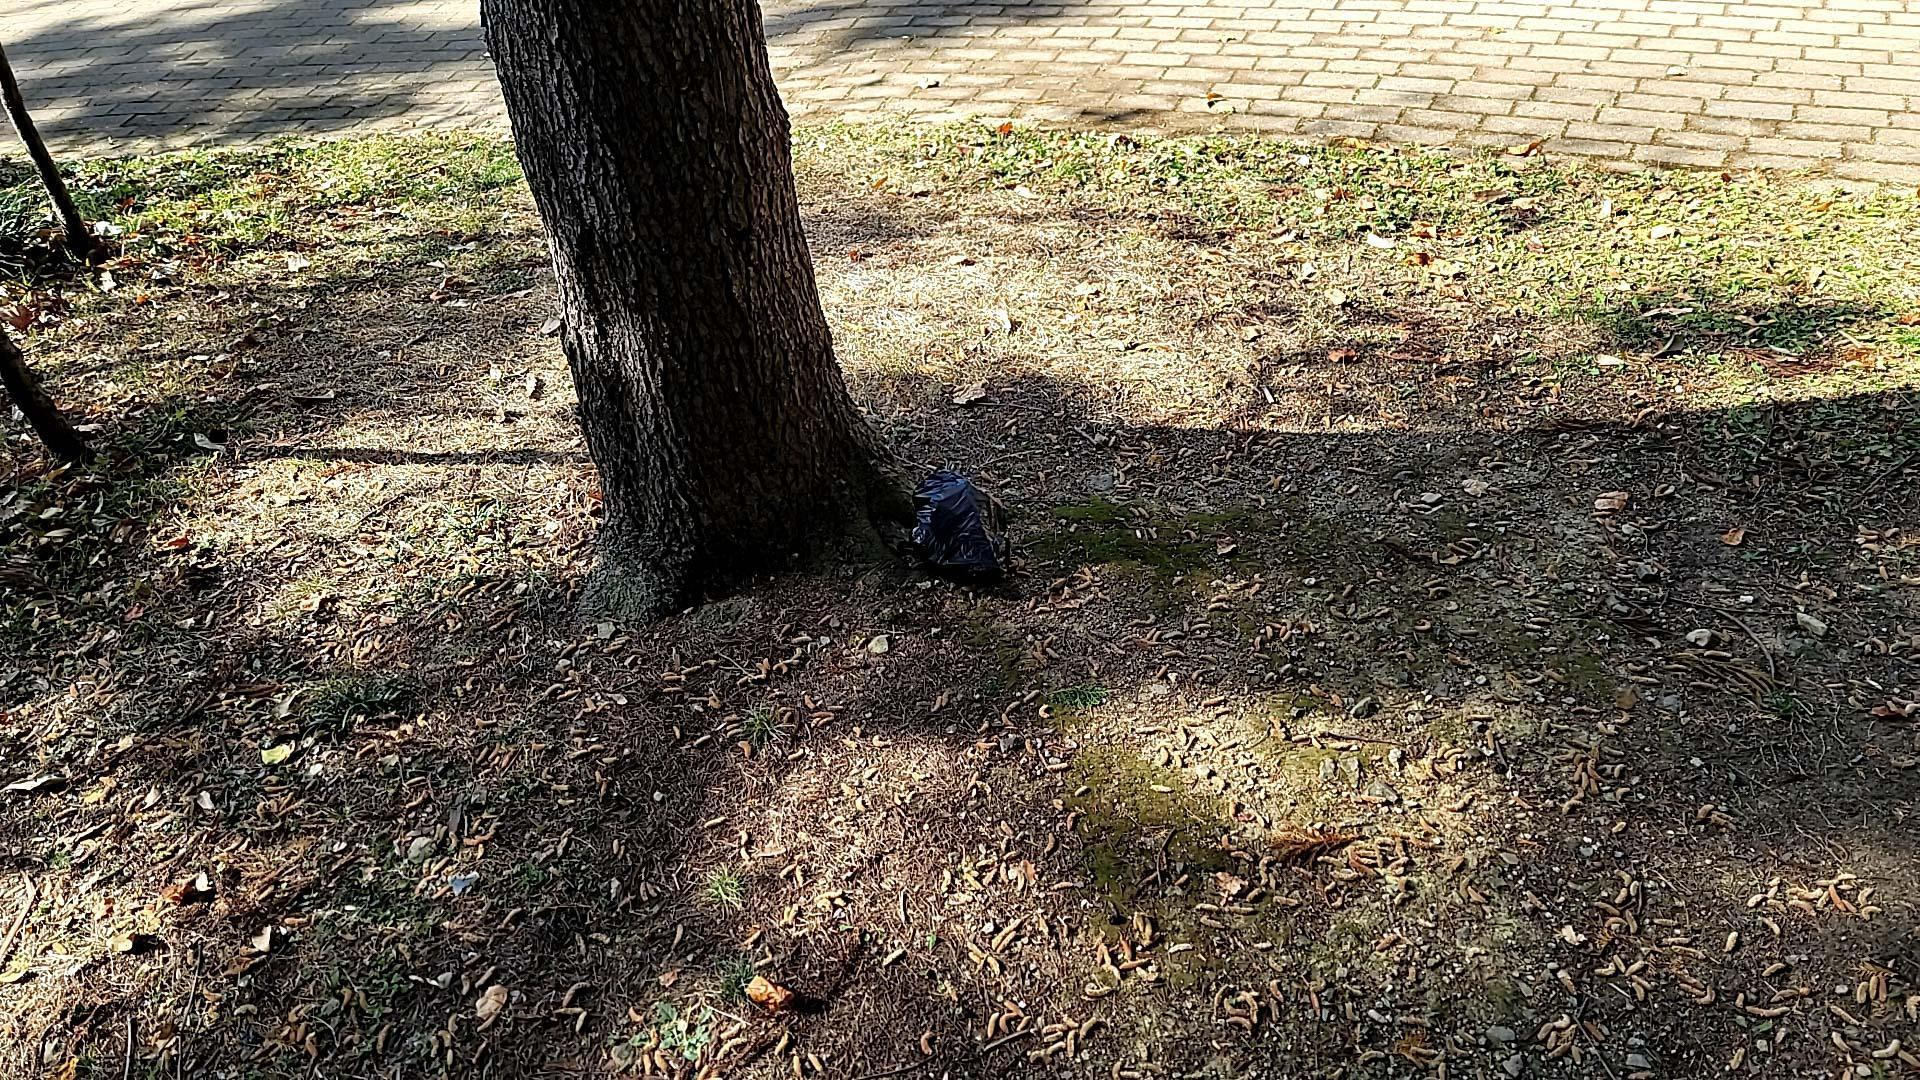black_bag: (899, 465, 1030, 605)
